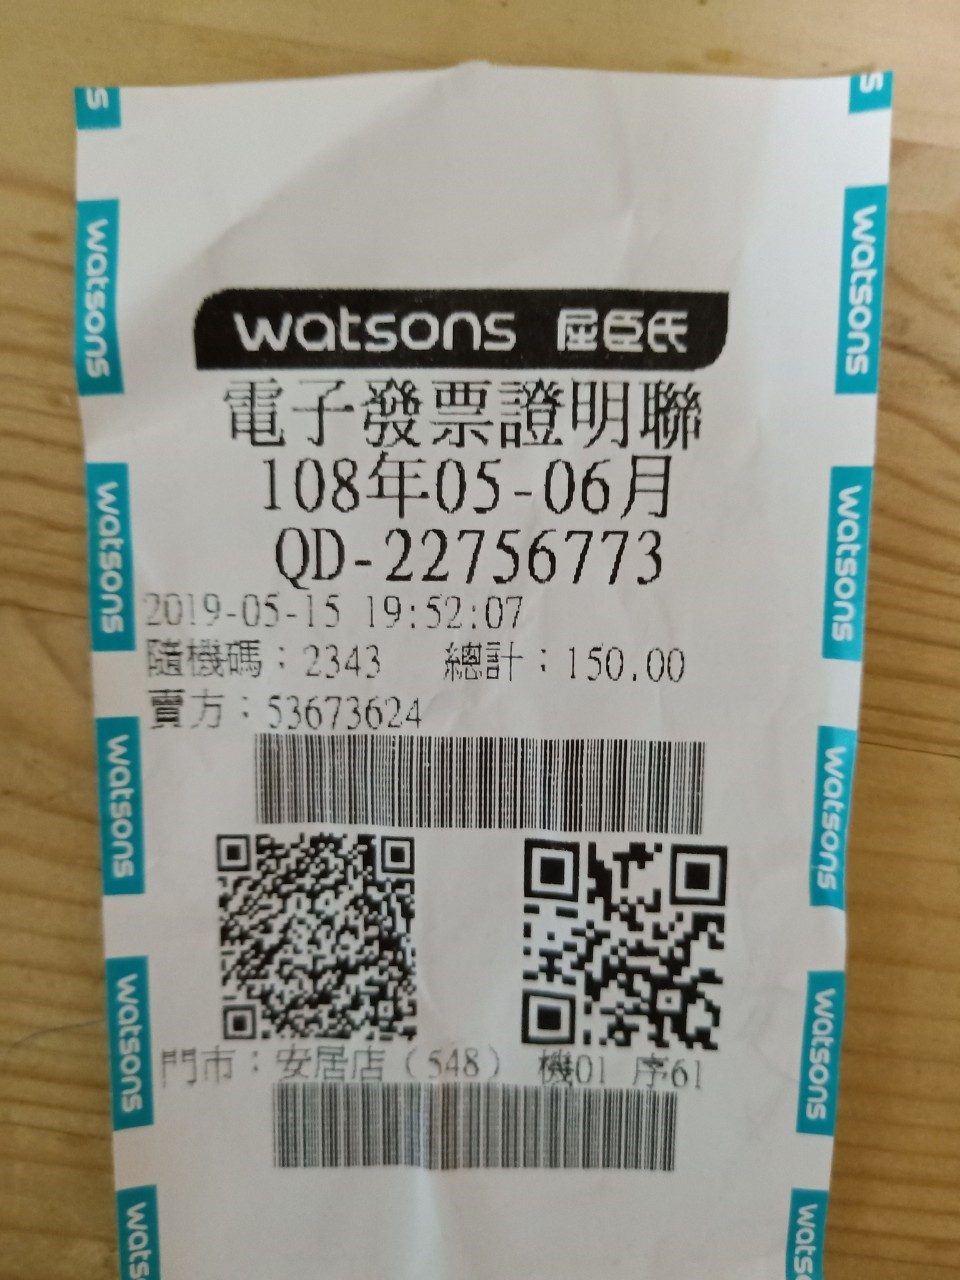Date_New: (260, 452, 673, 517)
Number_New: (381, 522, 668, 588)
